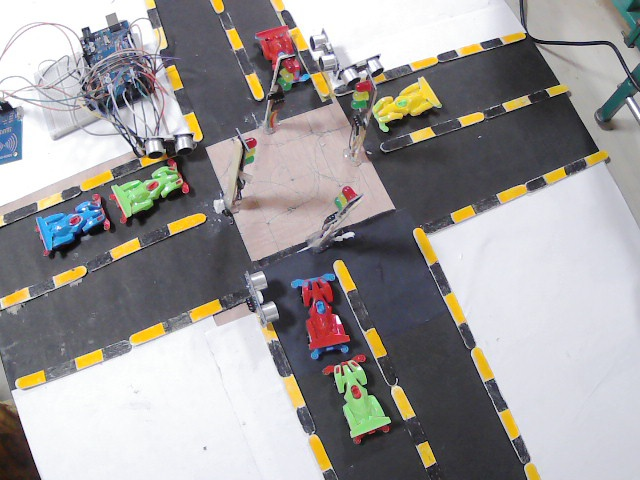black_strip: (347, 285, 373, 330), (267, 338, 295, 374), (105, 333, 139, 357), (377, 352, 400, 384), (28, 274, 57, 299), (164, 312, 194, 336), (137, 226, 173, 246), (2, 202, 35, 223), (44, 363, 76, 384), (235, 46, 259, 74), (429, 262, 452, 291), (302, 48, 324, 75), (487, 378, 506, 407), (85, 252, 113, 271), (475, 191, 499, 213), (295, 408, 317, 432), (406, 415, 426, 441), (114, 158, 141, 177), (426, 215, 456, 231), (433, 114, 457, 134), (384, 64, 411, 81), (457, 322, 475, 347), (384, 132, 410, 148), (515, 434, 529, 462), (214, 5, 228, 33), (564, 159, 586, 176), (222, 291, 250, 304), (435, 49, 456, 64), (176, 89, 189, 113), (427, 463, 445, 480), (66, 183, 84, 200), (483, 102, 502, 117), (160, 47, 173, 68), (526, 175, 544, 190), (532, 88, 551, 102), (483, 37, 500, 50), (284, 9, 296, 27), (147, 10, 158, 26), (323, 467, 334, 477)
car: (321, 355, 394, 442), (288, 271, 355, 360), (34, 196, 111, 258), (369, 72, 447, 132), (111, 167, 191, 224), (257, 18, 308, 82)
mixed_lane: (411, 225, 540, 478), (327, 256, 446, 480), (11, 288, 253, 394), (0, 208, 210, 318), (421, 153, 609, 235), (377, 83, 572, 153), (0, 156, 166, 229), (262, 320, 337, 480), (371, 28, 532, 88), (141, 1, 202, 138), (206, 1, 270, 103), (274, 1, 331, 103)
traffic_light: (347, 72, 382, 138), (262, 53, 297, 119), (231, 129, 260, 196), (324, 183, 362, 233)
uno_breadboard: (75, 9, 158, 114), (33, 49, 104, 140), (241, 265, 278, 322), (335, 49, 389, 87), (0, 101, 25, 167), (138, 130, 199, 157), (312, 28, 343, 76)
yellow_strip: (332, 256, 360, 291), (136, 315, 171, 343), (80, 172, 115, 198), (390, 382, 411, 418), (171, 213, 206, 234), (444, 291, 466, 323), (415, 229, 435, 264), (187, 301, 220, 322), (309, 435, 328, 471), (55, 265, 87, 286), (284, 376, 304, 409), (501, 93, 533, 113), (472, 347, 491, 380), (76, 349, 102, 372), (0, 287, 28, 308), (365, 328, 386, 355), (502, 409, 518, 442), (246, 72, 264, 101), (500, 185, 527, 204), (17, 372, 44, 391), (113, 238, 139, 257), (460, 110, 489, 127), (289, 26, 307, 53), (411, 55, 437, 73), (36, 194, 63, 211), (165, 64, 183, 88), (500, 31, 526, 47), (417, 442, 435, 465), (585, 151, 610, 167), (313, 72, 327, 97), (458, 42, 481, 57), (226, 28, 241, 51), (183, 111, 197, 135), (454, 204, 473, 221), (545, 167, 565, 183), (411, 126, 433, 140), (141, 154, 164, 167), (156, 22, 168, 45), (545, 86, 569, 97), (526, 463, 540, 480), (371, 72, 384, 83), (265, 328, 278, 338), (210, 2, 222, 10), (143, 1, 154, 8), (273, 3, 283, 10)
